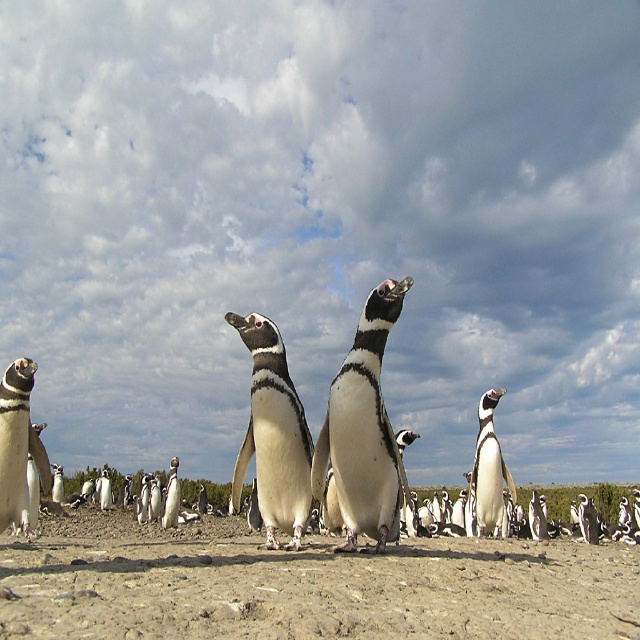Penguin: (0, 274, 639, 550)
